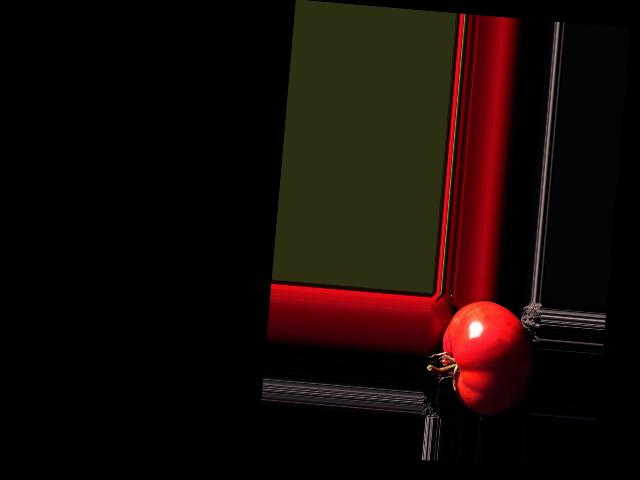tomato: (437, 298, 538, 419)
